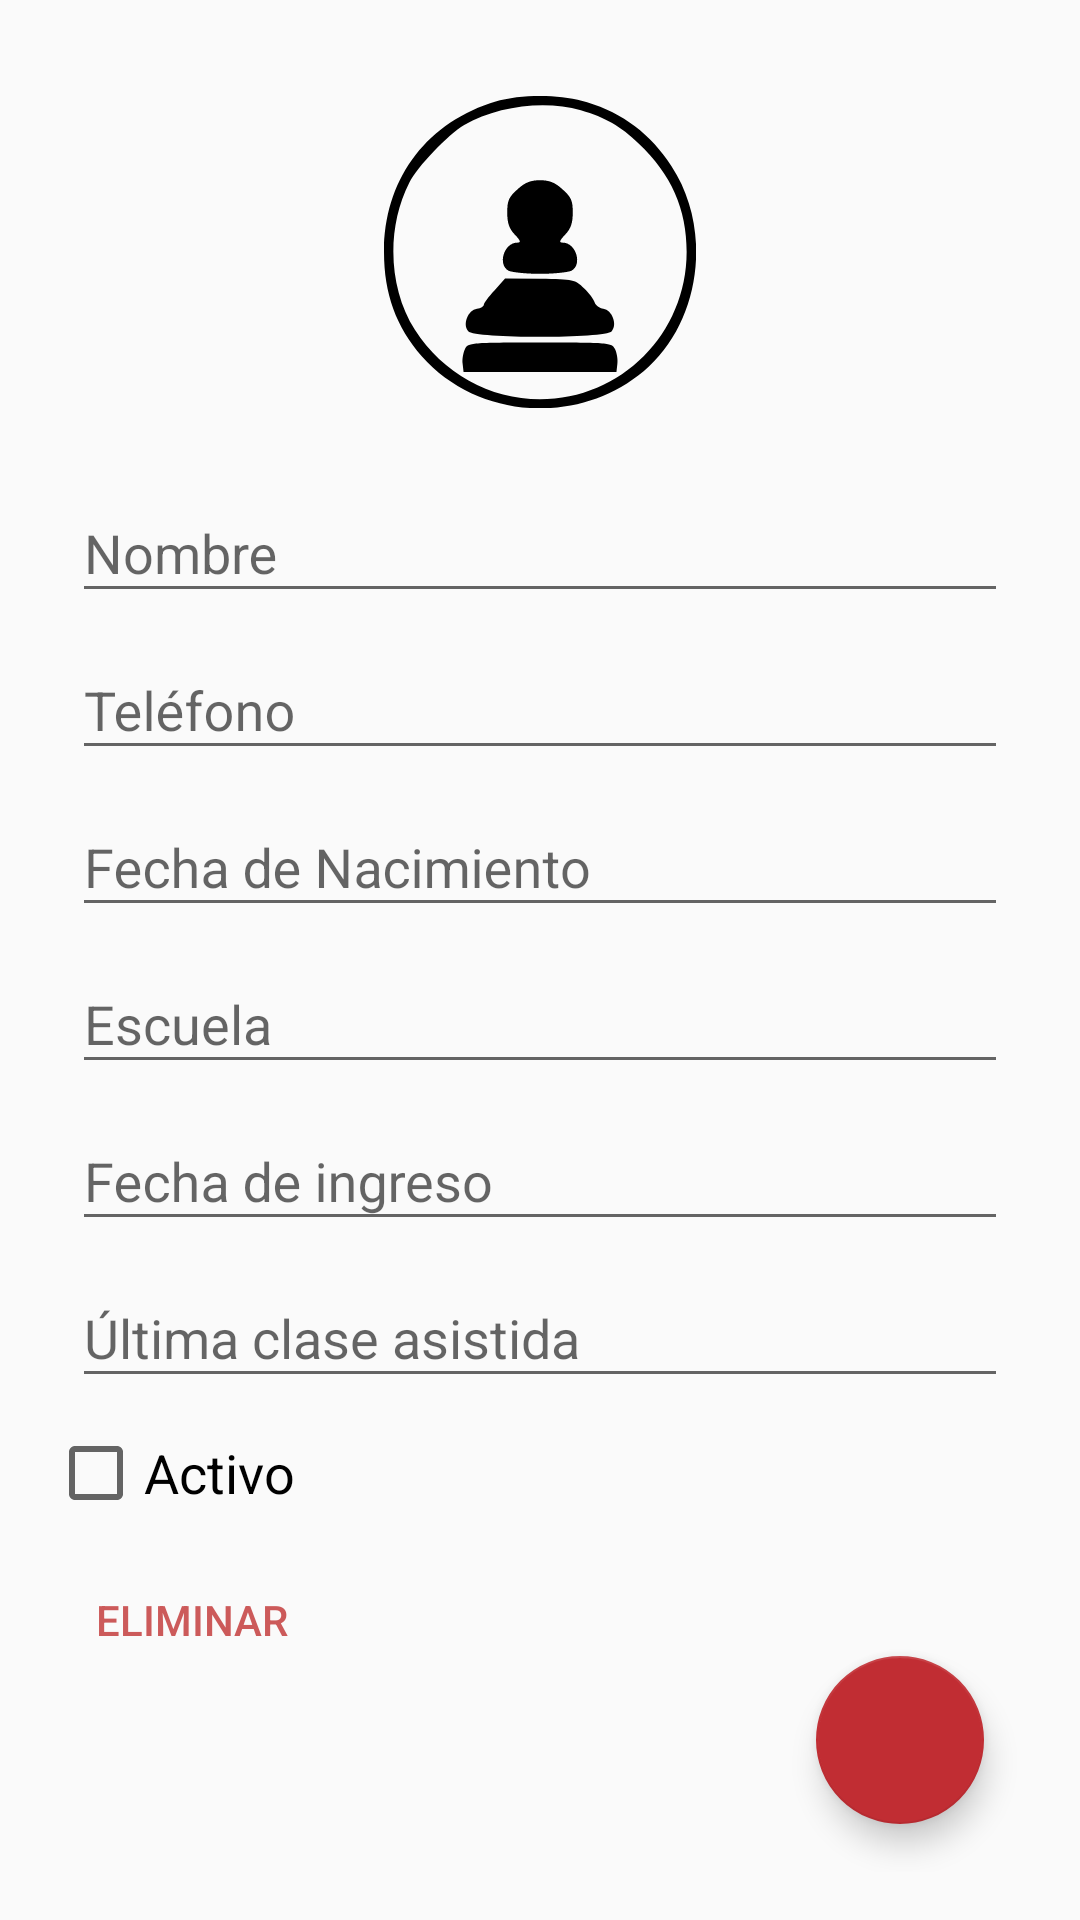

Screen size 1080 × 1920. Icon name, then its center in pixels as [x,y]:
pawn: [540,252]
